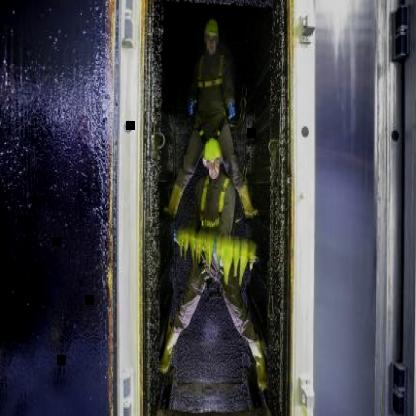helmet: (196, 134, 228, 169), (203, 19, 221, 39)
